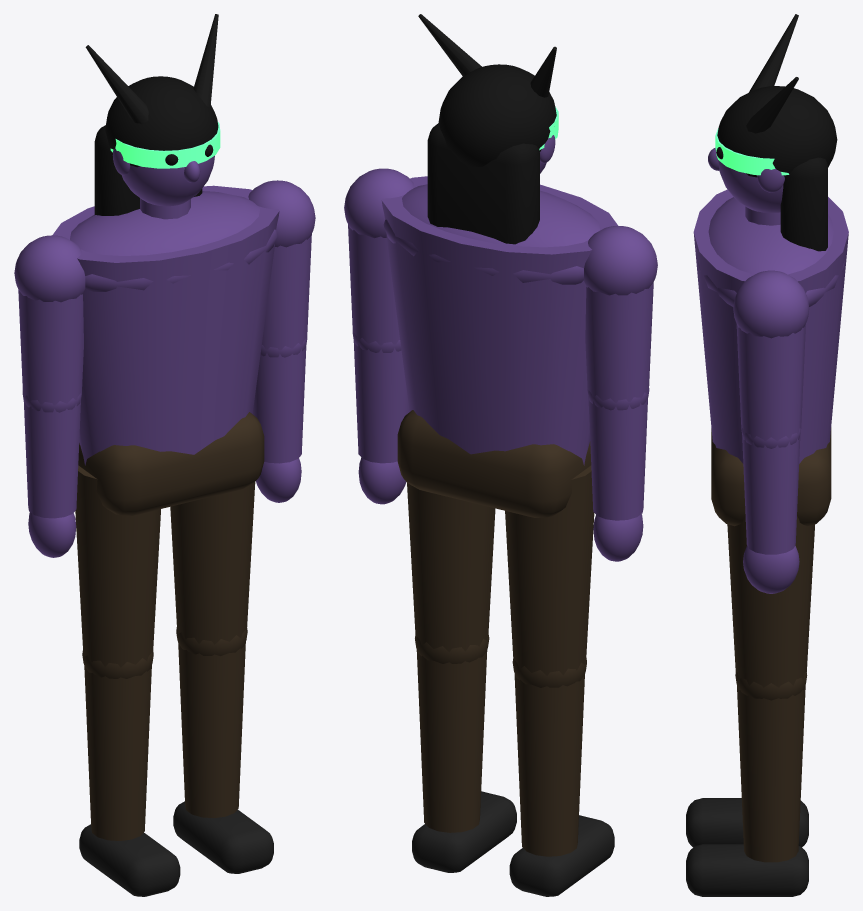
The model's file is malvik.glb.
The picture shows the model from 3 angles, left to right: view 1: azimuth 30°, elevation 25°; view 2: azimuth 150°, elevation 25°; view 3: azimuth 270°, elevation 25°; orthographic projection. The views are drawn at different scales.
Visible parts, largest first — view 1: body, leg_L, leg_R, arm_L, arm_R; view 2: body, leg_L, leg_R, arm_L, arm_R; view 3: body, leg_R, arm_R, leg_L.
Part boxes in pixels (x1=…): body: x1=52, y1=14, x2=279, y2=515; leg_L: x1=75, y1=465, x2=180, y2=896; leg_R: x1=170, y1=482, x2=273, y2=873; arm_L: x1=14, y1=235, x2=85, y2=557; arm_R: x1=248, y1=180, x2=315, y2=502; body: x1=381, y1=14, x2=618, y2=517; leg_L: x1=505, y1=465, x2=614, y2=896; leg_R: x1=407, y1=483, x2=516, y2=872; arm_L: x1=584, y1=226, x2=657, y2=561; arm_R: x1=344, y1=168, x2=413, y2=504; body: x1=693, y1=14, x2=848, y2=526; leg_R: x1=686, y1=516, x2=814, y2=896; arm_R: x1=733, y1=270, x2=809, y2=593; leg_L: x1=686, y1=798, x2=808, y2=847.
Size of the model in its own units: 0.713 by 1.91 by 0.344.
